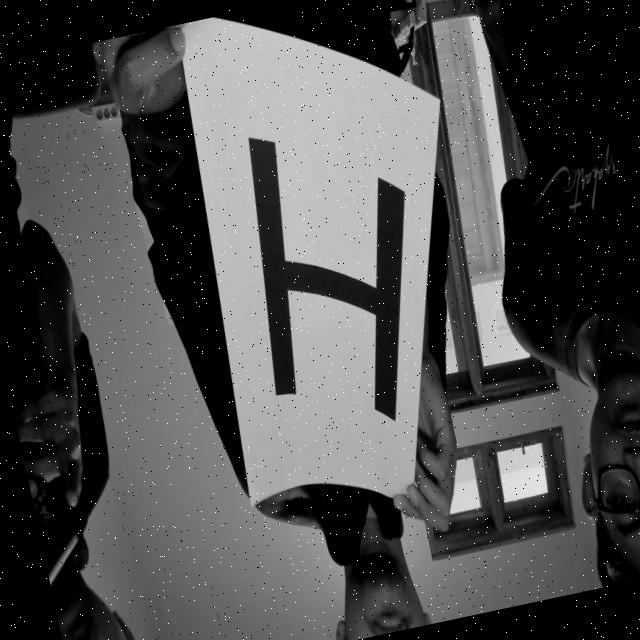h: (209, 78, 464, 463)
